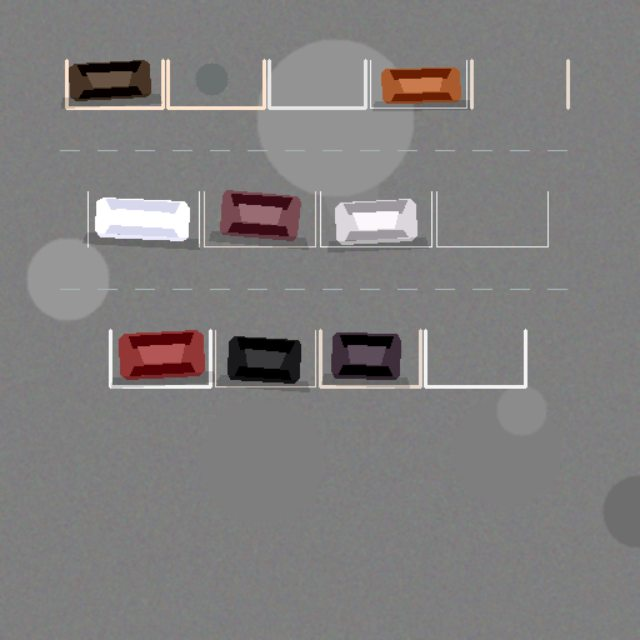space-empty: (436, 191, 548, 246), (425, 330, 525, 386), (167, 60, 264, 107), (269, 60, 365, 107), (471, 60, 567, 107)
space-occupied: (88, 191, 199, 246), (204, 191, 315, 246), (320, 191, 431, 246), (110, 330, 210, 386), (215, 330, 315, 386), (320, 330, 420, 386), (66, 60, 163, 107), (370, 60, 466, 107)
